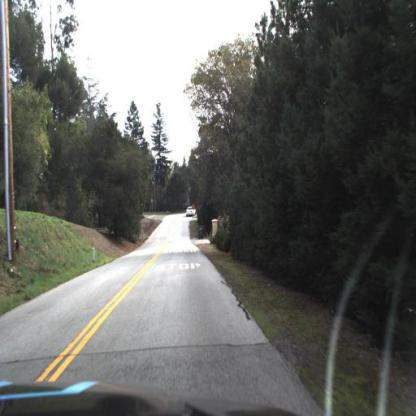car: (183, 202, 197, 221)
